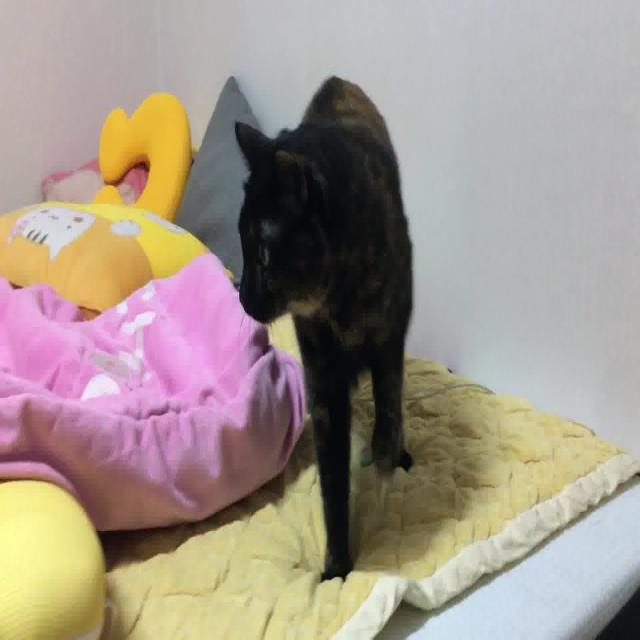cat: (230, 71, 417, 588)
